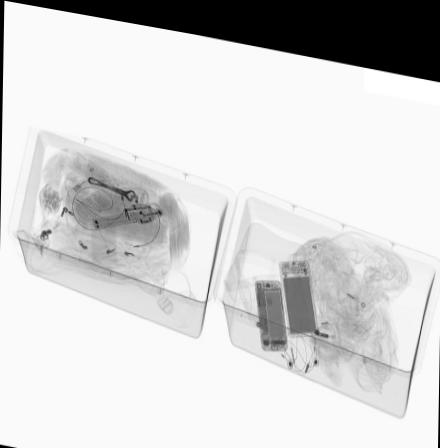Powerbank: (279, 248, 320, 326)
